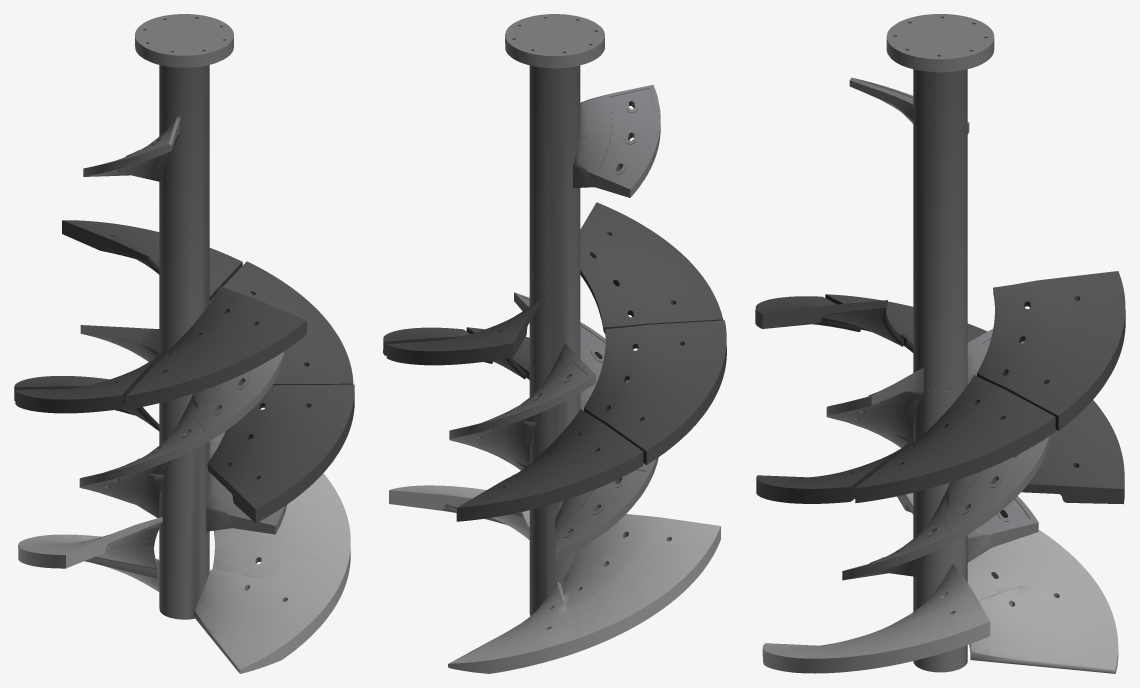
The model's file is mining-sintercast-verti-mill-liners.glb.
3 views of the same model, side by side, from view 1: azimuth 30°, elevation 25°; view 2: azimuth 150°, elevation 25°; view 3: azimuth 270°, elevation 25° (orthographic). The views are drawn at different scales.
Visible parts, largest first — view 1: metal, sinterHicr, sinterCeramic; view 2: metal, sinterHicr, sinterCeramic; view 3: metal, sinterHicr, sinterCeramic.
Boxes of the visible parts, x1,y1,x2,y2 form: metal: (79,14,287,619); sinterHicr: (14,220,354,522); sinterCeramic: (18,473,350,673); metal: (449,14,660,615); sinterHicr: (383,202,726,521); sinterCeramic: (389,485,720,673); metal: (826,14,1052,672); sinterHicr: (755,271,1125,504); sinterCeramic: (762,493,1118,673).
Bounding box in the file's own units: 4.89 × 9.11 × 4.9.
3 materials, 3 textured.
